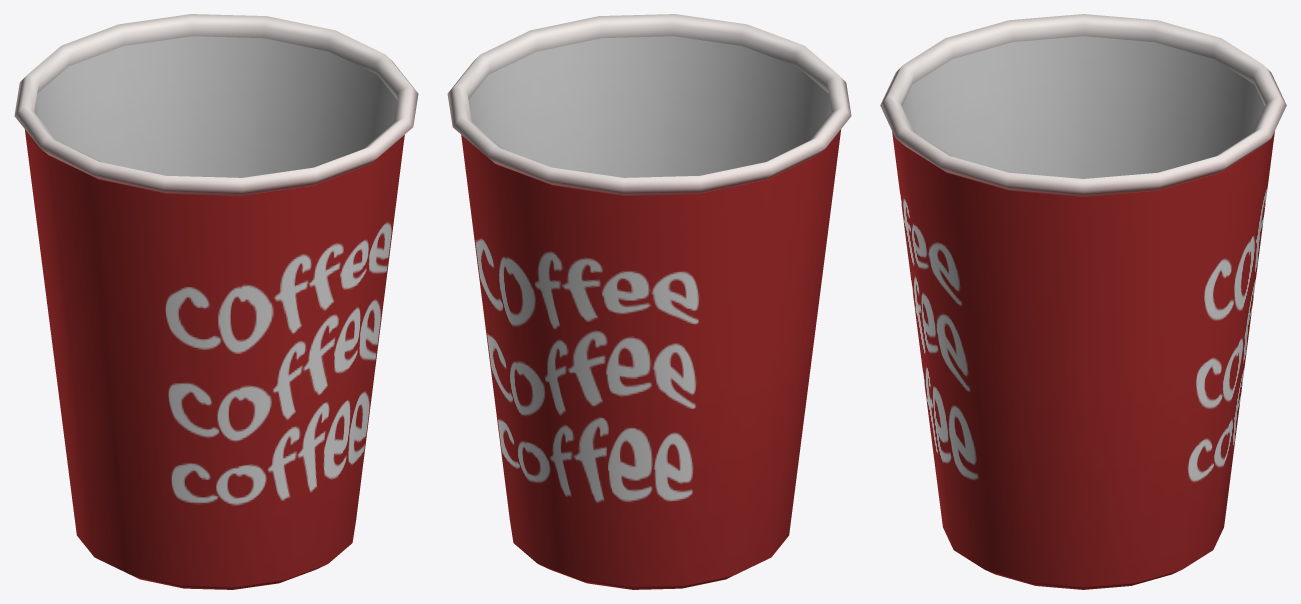
File: ToGo_Cup_Med_01.fbx
The picture shows the model from 3 angles, left to right: view 1: azimuth 30°, elevation 25°; view 2: azimuth 150°, elevation 25°; view 3: azimuth 270°, elevation 25°; orthographic projection.
Visible parts, largest first — view 1: ToGo_Cup_Med_01; view 2: ToGo_Cup_Med_01; view 3: ToGo_Cup_Med_01.
Boxes of the visible parts, <box> form: ToGo_Cup_Med_01: <box>14,14,418,589</box>; ToGo_Cup_Med_01: <box>447,14,851,589</box>; ToGo_Cup_Med_01: <box>880,14,1286,589</box>.
Size of the model in its own units: 51.68 by 61.77 by 51.68.
